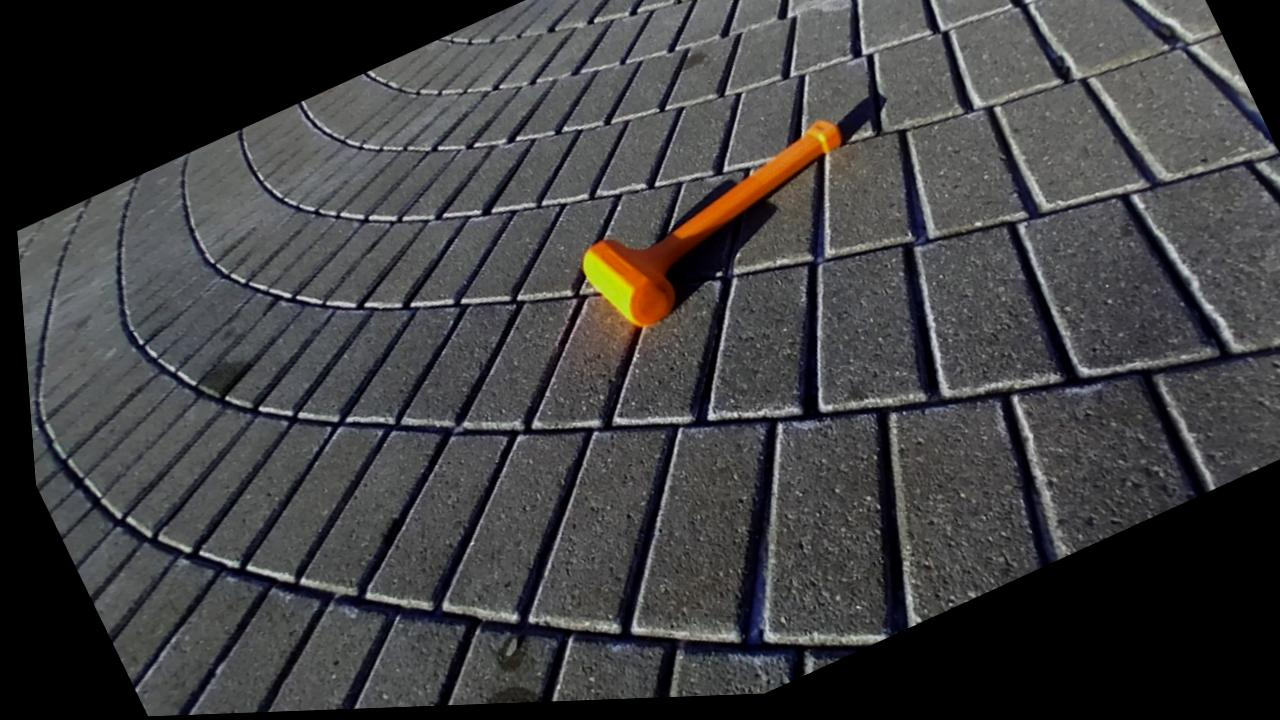mallet: (582, 120, 840, 325)
